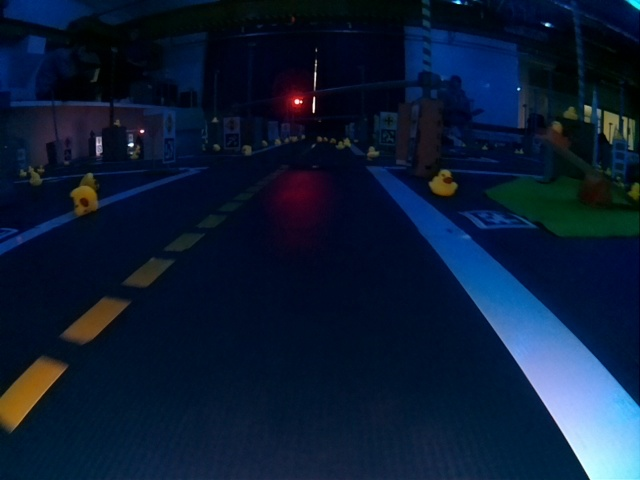Duckie: (72, 186, 99, 213), (432, 170, 457, 196), (31, 173, 41, 184), (242, 146, 251, 155), (367, 148, 376, 154)
QR code: (466, 210, 533, 231)
Traffic light: (292, 95, 303, 107)
